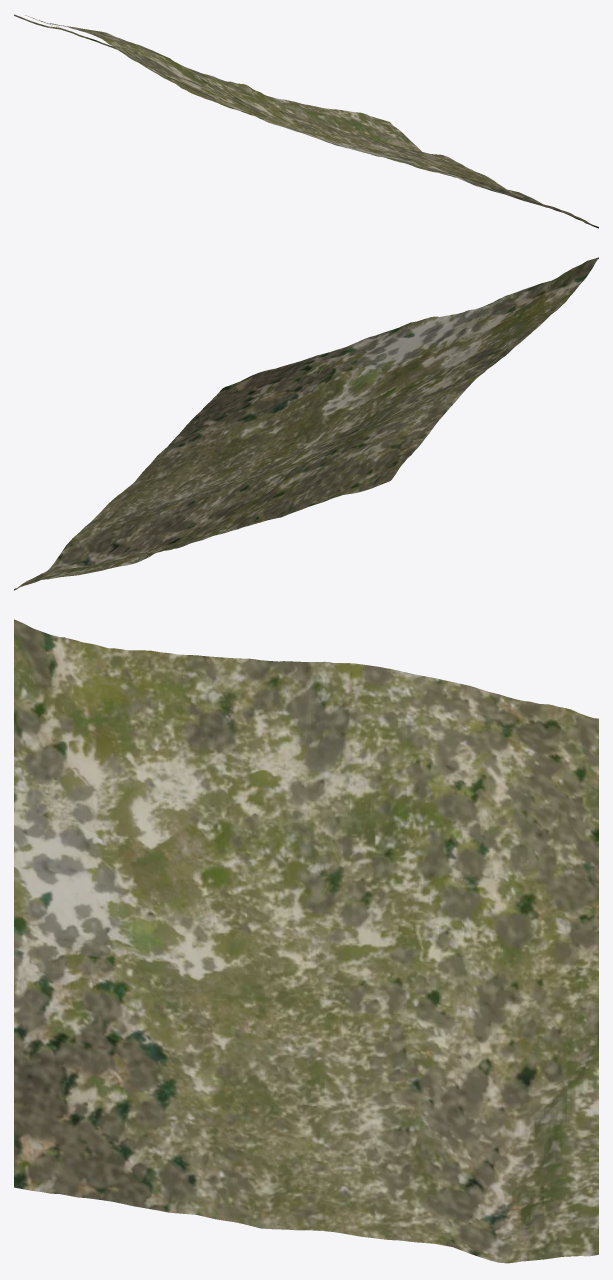
The picture shows the model from 3 angles, top to bottom: view 1: azimuth 30°, elevation 25°; view 2: azimuth 150°, elevation 25°; view 3: azimuth 270°, elevation 25°; orthographic projection. The views are drawn at different scales.
Size of the model in its own units: 250 by 177 by 241.
1 material, 1 textured.
